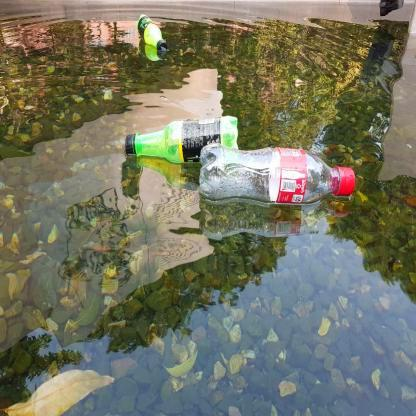Plastic: (200, 144, 366, 204), (125, 113, 242, 166)
Trash: (137, 12, 166, 53)
